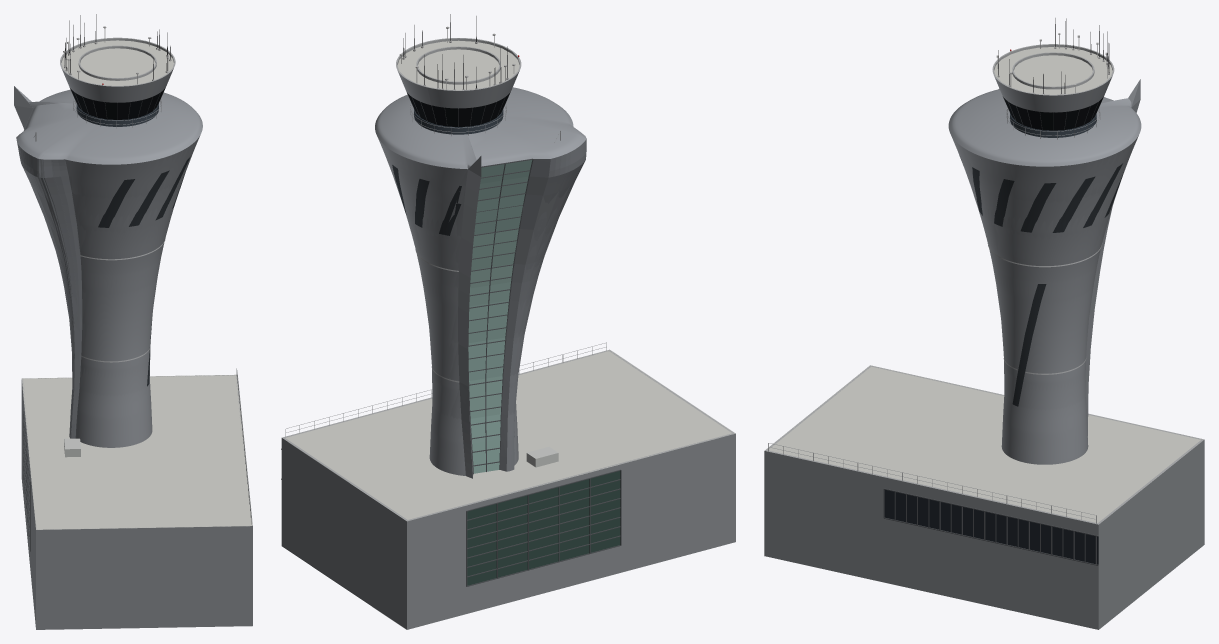
File: tower_f2.glb
The picture shows the model from 3 angles, left to right: view 1: azimuth 30°, elevation 25°; view 2: azimuth 150°, elevation 25°; view 3: azimuth 270°, elevation 25°; orthographic projection. The views are drawn at different scales.
Parts seen in each view (by area): view 1: L2_ibf, L0_ibf, L2_shaft, L0_shaft, L0_flare_deck, L0_cab, L1_shaft, L0_landside, L2_landside, L1_cab, L2_cab, L0_cab_glass (+4 smaller); view 2: L0_ibf, L2_ibf, L2_ribbon, L0_flare_deck, L2_landside, L0_cab, L2_shaft, L0_shaft, L0_landside, L0_ibf_mullions, L0_ribbon_mullions, L1_shaft (+7 smaller); view 3: L0_ibf, L2_ibf, L2_shaft, L0_shaft, L0_flare_deck, L0_cab, L1_shaft, L1_cab, L0_ibf_mullions, L0_cab_glass, L1_cab_glass, L2_cab (+3 smaller).
Boxes of the visible parts, bbox=[...] form: L2_ibf: bbox=[22, 374, 252, 529]; L0_ibf: bbox=[21, 375, 252, 629]; L2_shaft: bbox=[65, 138, 198, 447]; L0_shaft: bbox=[66, 136, 199, 447]; L0_flare_deck: bbox=[14, 86, 202, 164]; L0_cab: bbox=[60, 37, 175, 126]; L1_shaft: bbox=[71, 149, 194, 398]; L0_landside: bbox=[17, 142, 82, 437]; L2_landside: bbox=[14, 105, 82, 438]; L1_cab: bbox=[60, 38, 175, 120]; L2_cab: bbox=[60, 38, 174, 119]; L0_cab_glass: bbox=[69, 87, 165, 119]; L0_ibf: bbox=[281, 349, 735, 629]; L2_ibf: bbox=[285, 350, 734, 519]; L2_ribbon: bbox=[468, 160, 532, 418]; L0_flare_deck: bbox=[375, 87, 585, 176]; L2_landside: bbox=[458, 145, 580, 470]; L0_cab: bbox=[396, 38, 521, 134]; L2_shaft: bbox=[380, 142, 518, 474]; L0_shaft: bbox=[377, 136, 518, 475]; L0_landside: bbox=[459, 139, 586, 478]; L0_ibf_mullions: bbox=[281, 448, 621, 586]; L0_ribbon_mullions: bbox=[468, 158, 533, 473]; L1_shaft: bbox=[382, 147, 465, 475]; L0_ibf: bbox=[764, 365, 1204, 629]; L2_ibf: bbox=[766, 365, 1202, 522]; L2_shaft: bbox=[953, 137, 1137, 464]; L0_shaft: bbox=[951, 136, 1138, 464]; L0_flare_deck: bbox=[948, 79, 1141, 166]; L0_cab: bbox=[992, 44, 1114, 137]; L1_shaft: bbox=[956, 147, 1131, 410]; L1_cab: bbox=[992, 44, 1113, 130]; L0_ibf_mullions: bbox=[883, 488, 1098, 565]; L0_cab_glass: bbox=[1002, 96, 1103, 130]; L1_cab_glass: bbox=[1004, 98, 1102, 130]; L2_cab: bbox=[993, 44, 1112, 130].
Size of the model in its own units: 45.01 by 68.48 by 52.4.
